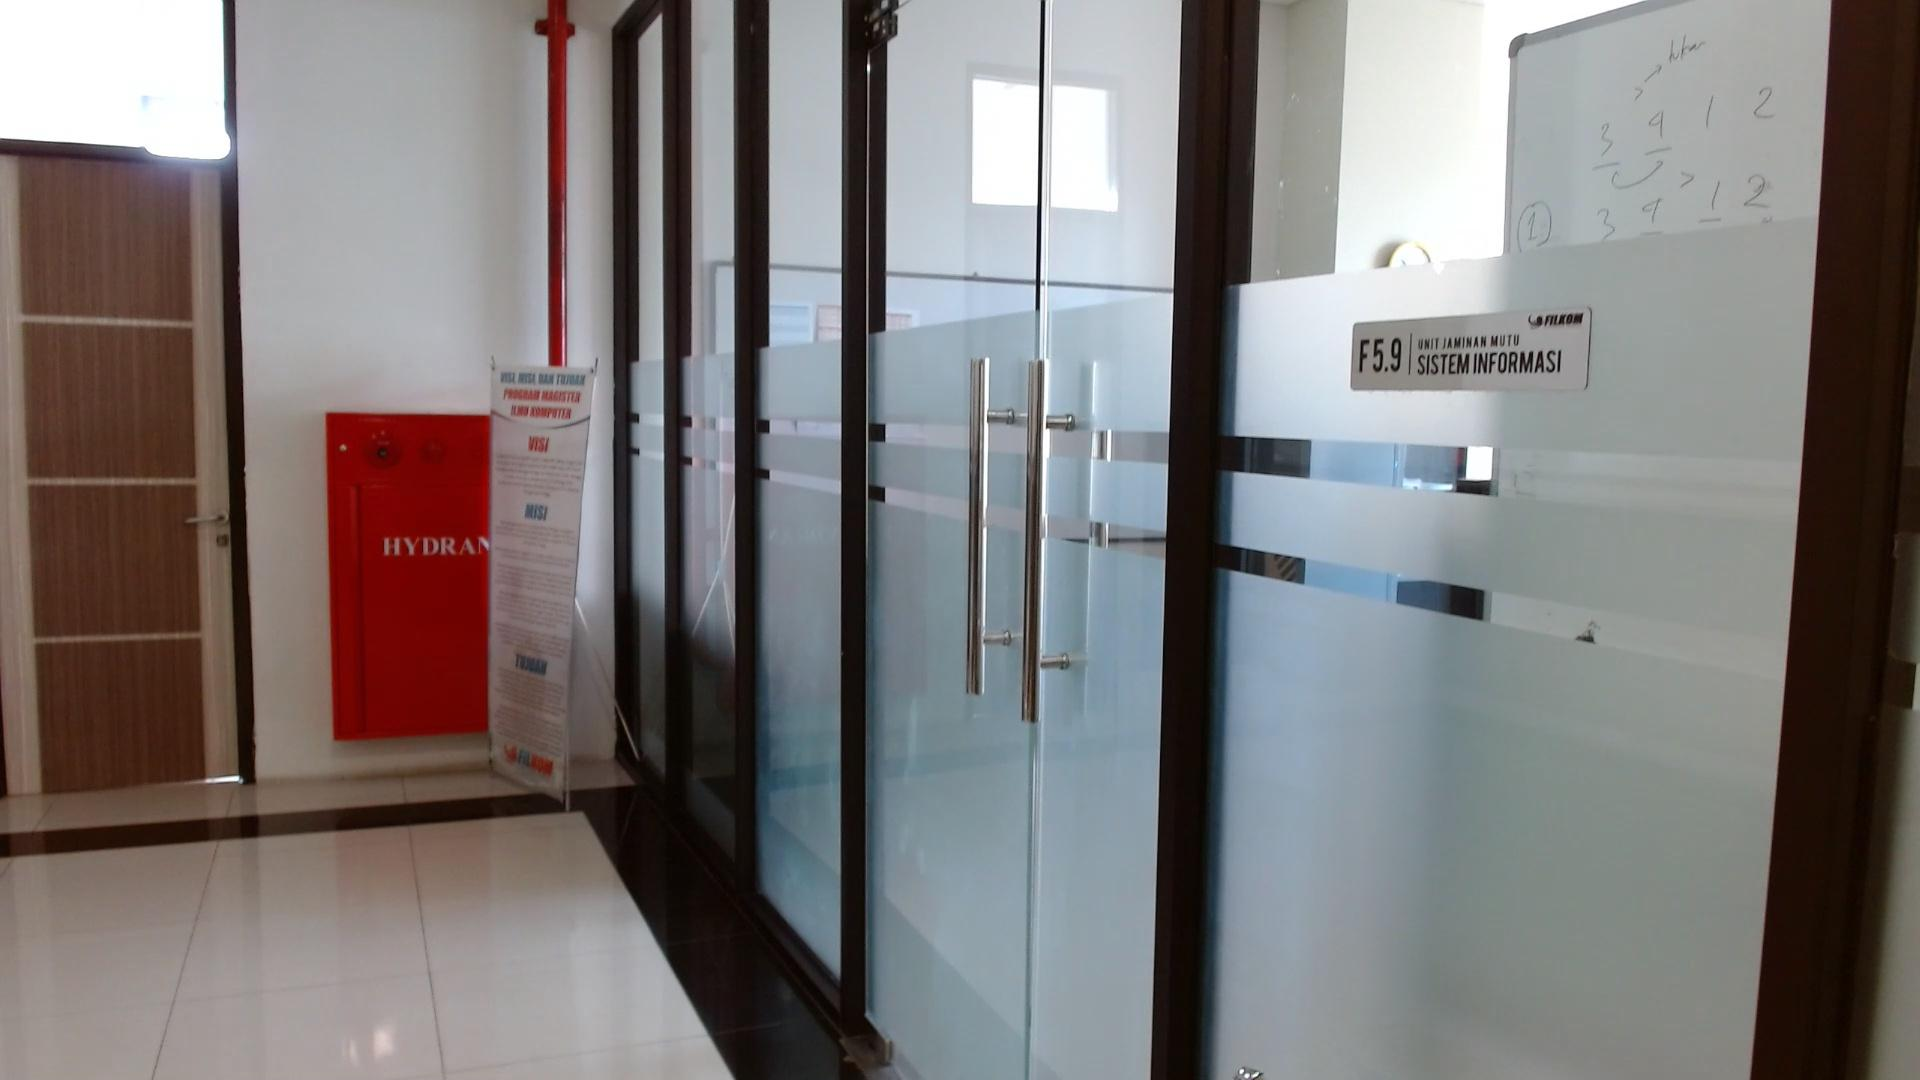plate: (1352, 307, 1592, 390)
